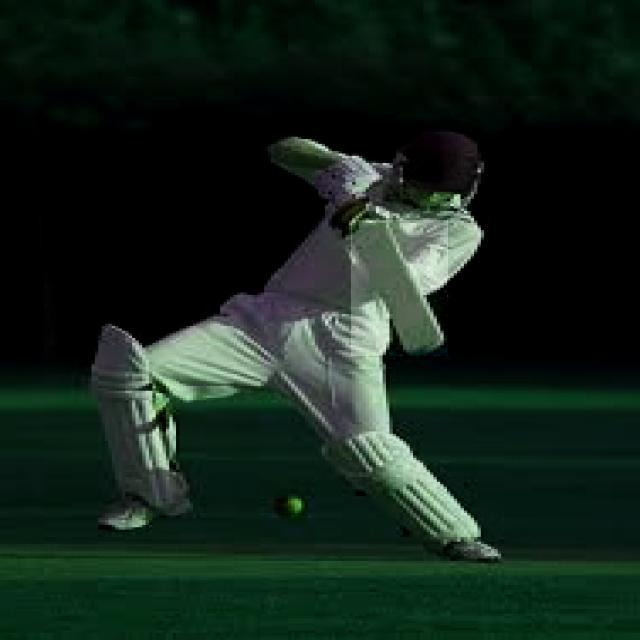bat: (350, 221, 450, 356)
toe: (402, 323, 462, 370)
